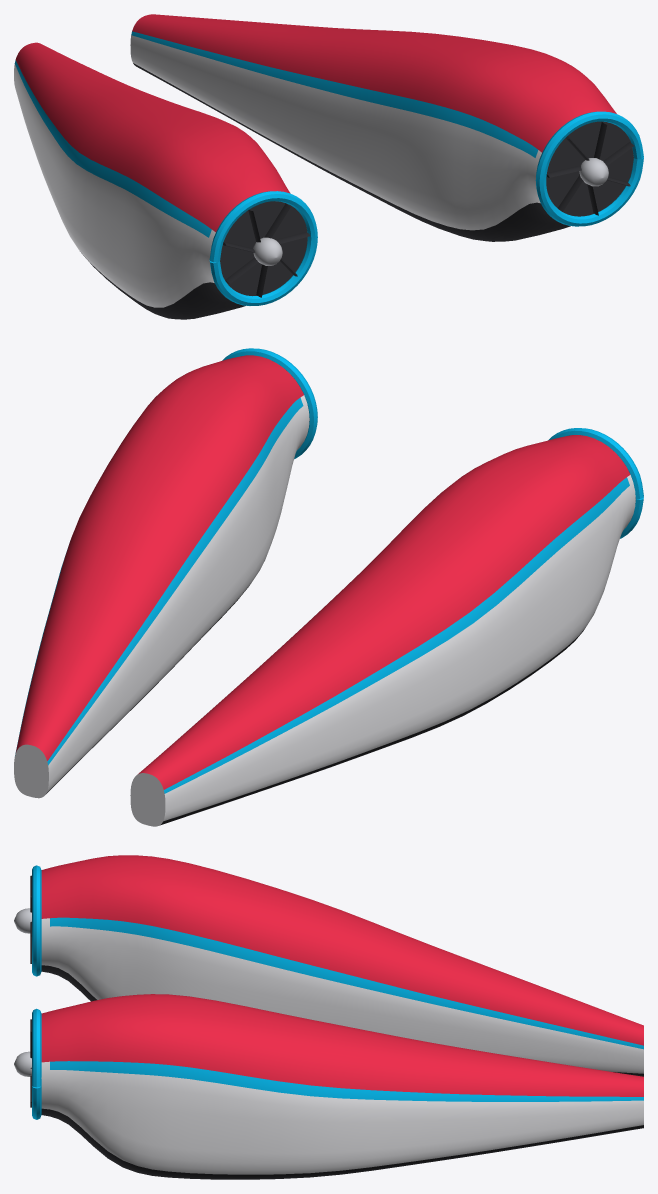
Rendered from jet.glb.
3 renders of one model, top to bottom at view 1: azimuth 30°, elevation 25°; view 2: azimuth 150°, elevation 25°; view 3: azimuth 270°, elevation 25°, orthographic. The views are drawn at different scales.
Visible parts, largest first — view 1: Sidepods_jet; view 2: Sidepods_jet; view 3: Sidepods_jet.
Boxes of the visible parts, bbox=[...] form: Sidepods_jet: bbox=[14, 14, 643, 319]; Sidepods_jet: bbox=[14, 348, 643, 826]; Sidepods_jet: bbox=[14, 855, 643, 1179].
Bounding box in the file's own units: 1.52 × 0.6014 × 2.08.
